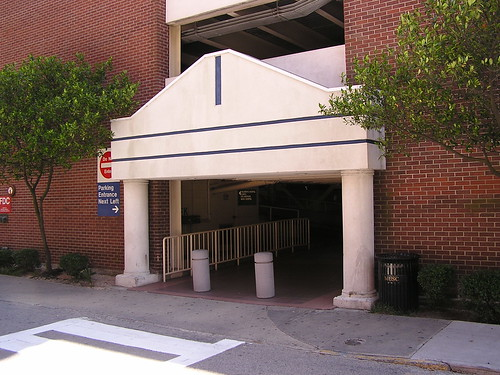building: (1, 1, 498, 293)
sign: (93, 146, 122, 217)
trash can: (376, 245, 422, 314)
tree: (335, 2, 500, 193), (1, 59, 120, 292)
